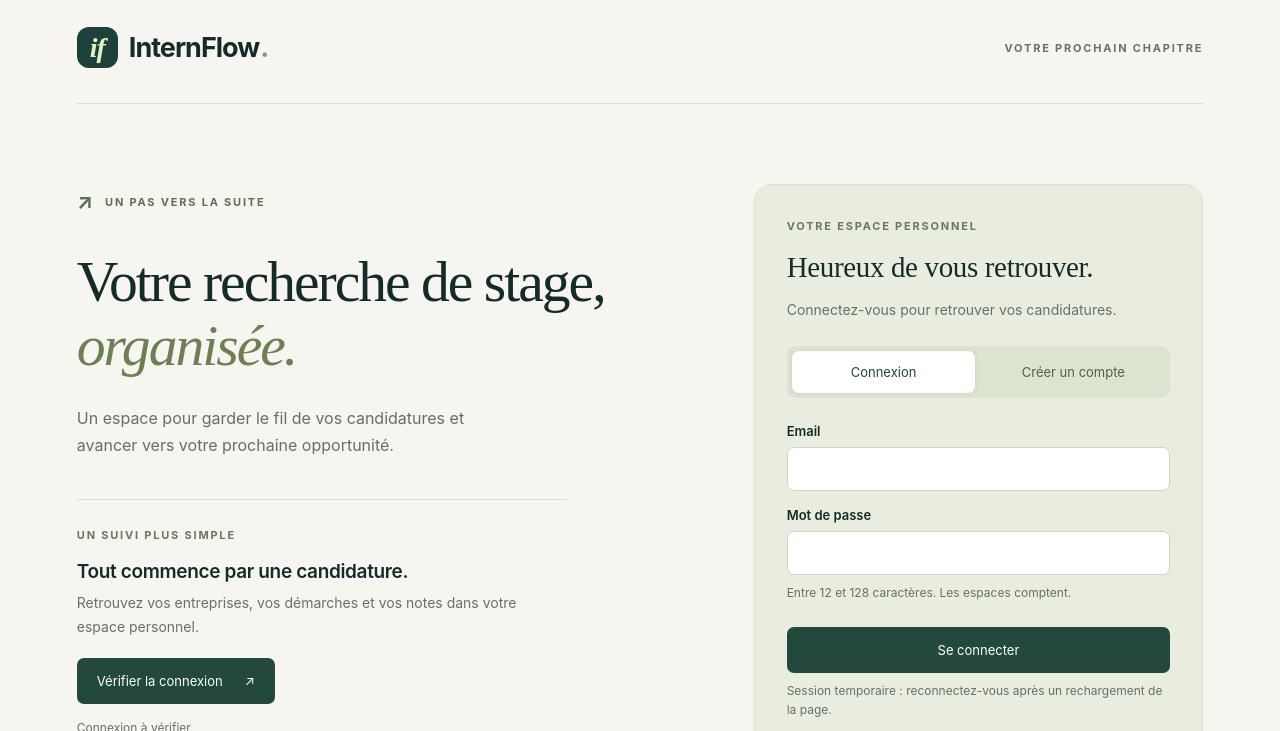
Scenario: preserves unchanged timestamps, clears notes and retains input after a save error
Type "candidate@example.com" into the field labelled "Email". click: (978, 470)
box: [787,448,1170,492]
Type "Correct password 123!" into the password field labelled "Mot de passe". click: (978, 554)
box: [787,532,1170,576]
Click the button "Se connecter". click: click(978, 650)
box: [787,627,1170,673]
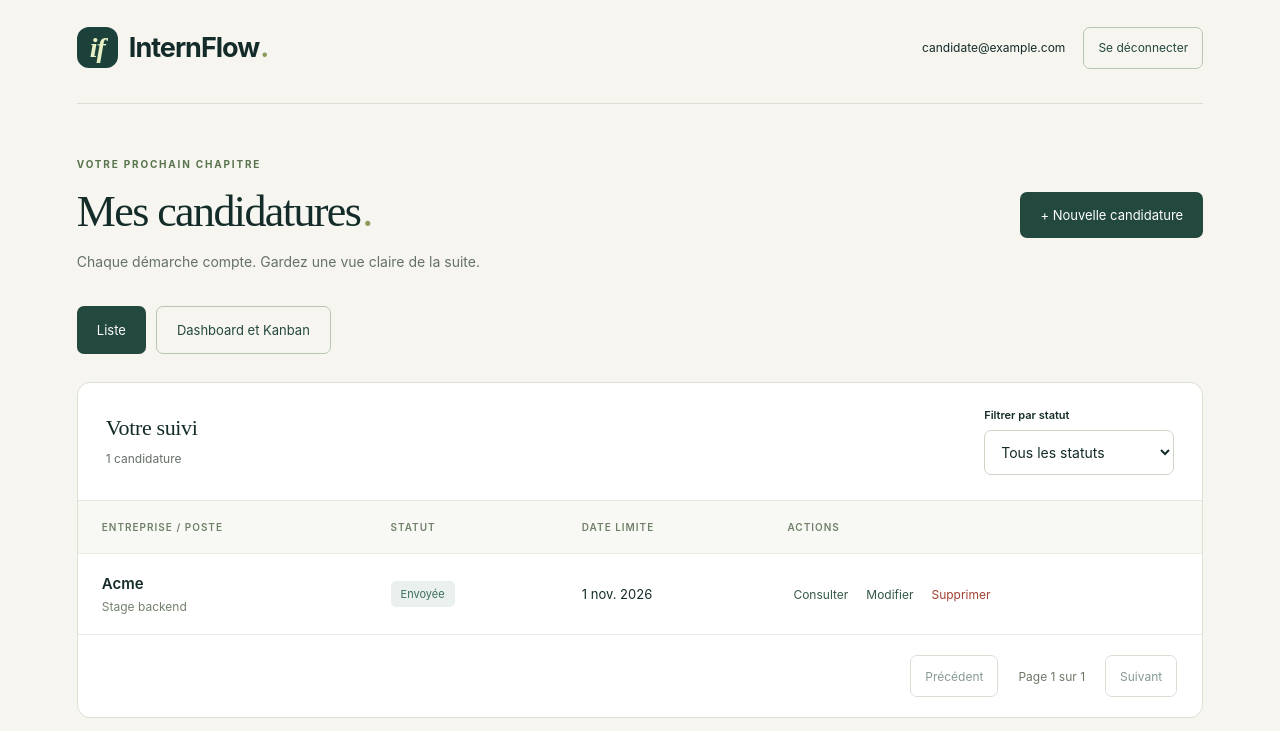
Expected: the heading "Mes candidatures." is shown, [77,187,372,236]
Click the button with aria-label "Modifier Acme". click: click(890, 594)
box: [860,574,920,614]
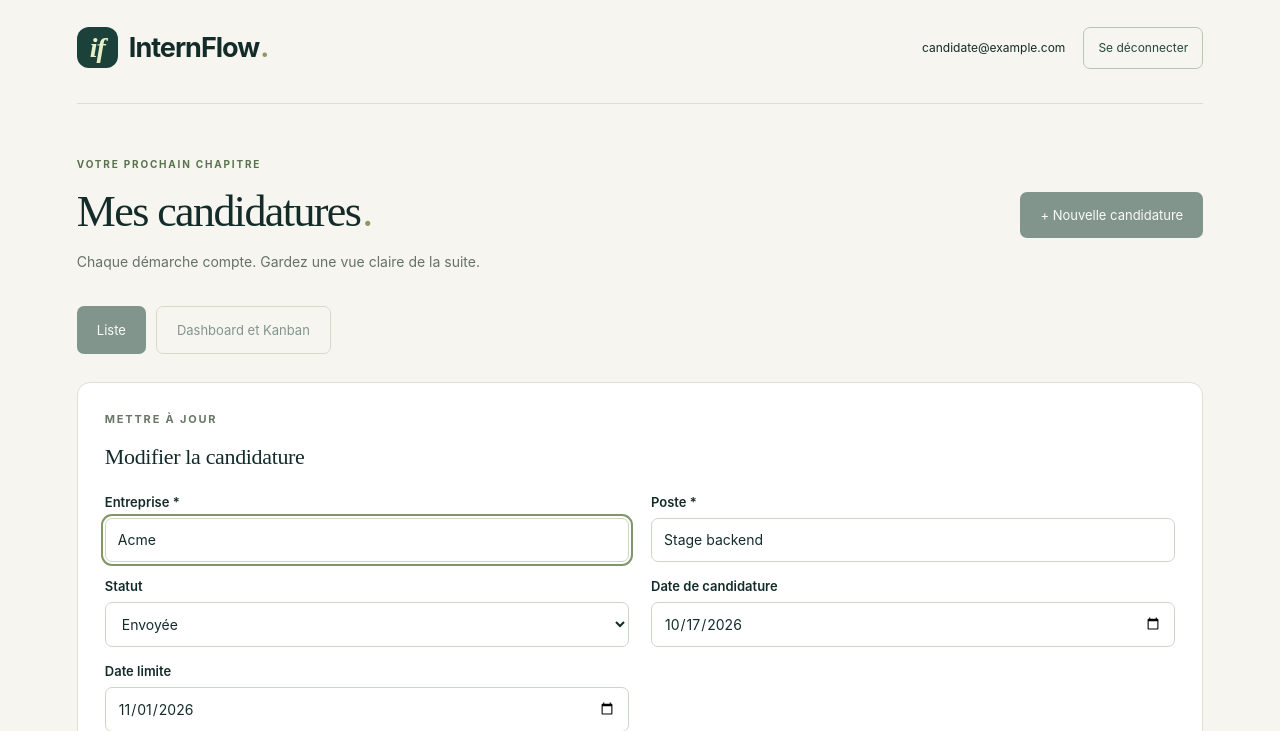
Replace the text in the field labelled "Poste *" with "Stage frontend". click: (913, 540)
box: [651,518,1175,562]
(page scrolled)
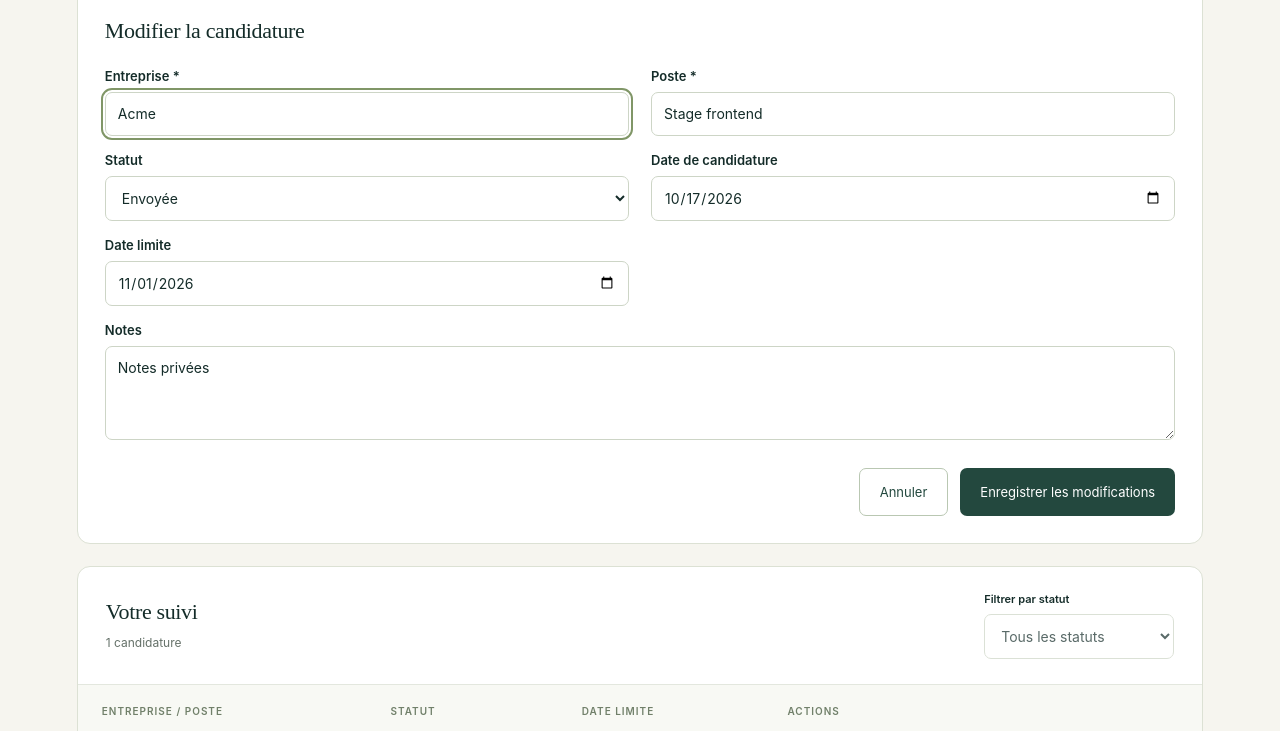
Clear the text box labelled "Notes". click: (640, 393)
box: [105,346,1175,440]
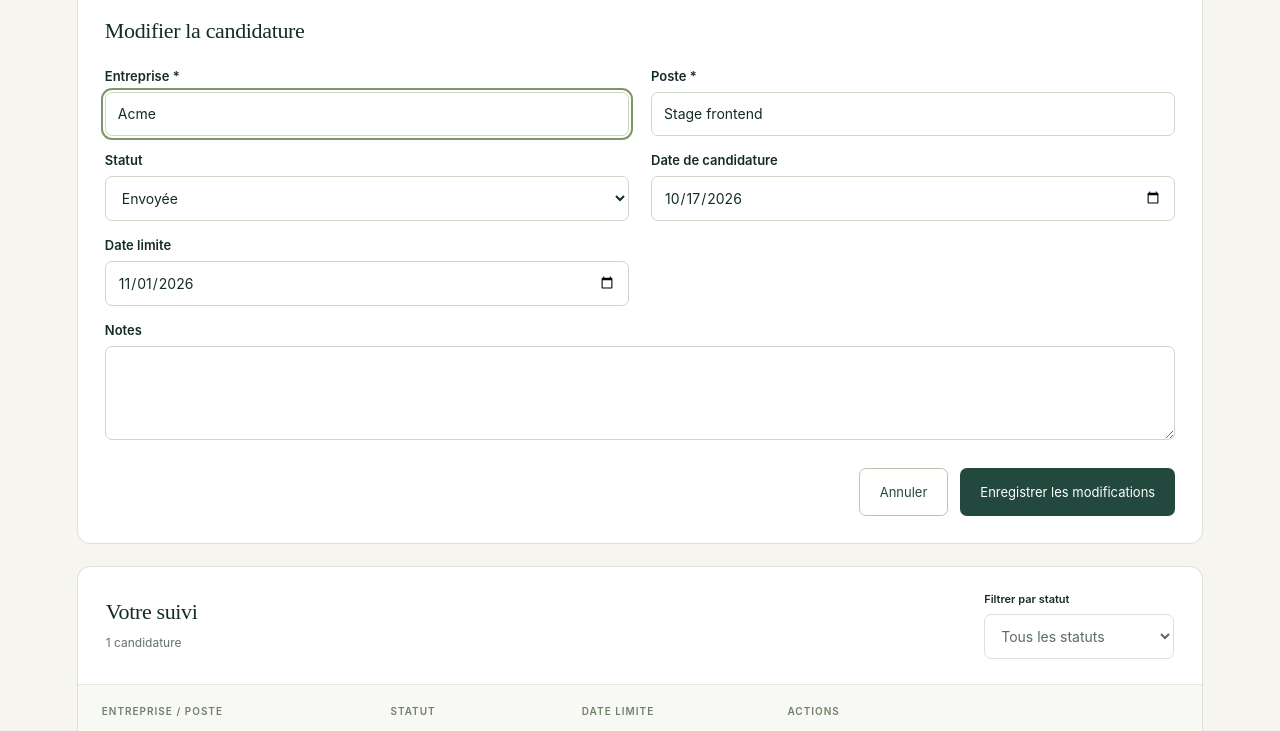
Click the button "Enregistrer les modifications". click: click(1068, 492)
box: [960,468,1175,516]
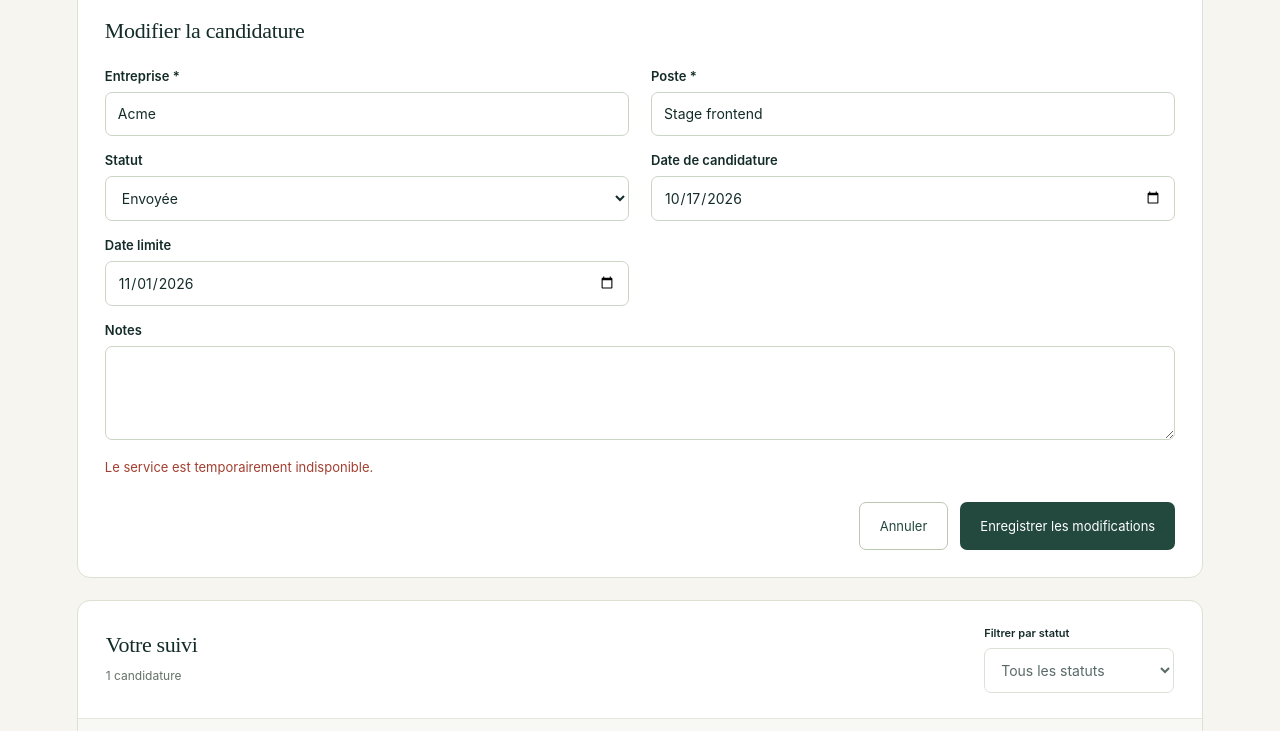
Expected: the text "Le service est temporairement indisponible." is shown, [105,459,373,475]
Click the button "Enregistrer les modifications". click: click(1068, 526)
box: [960,502,1175,550]
(page scrolled)
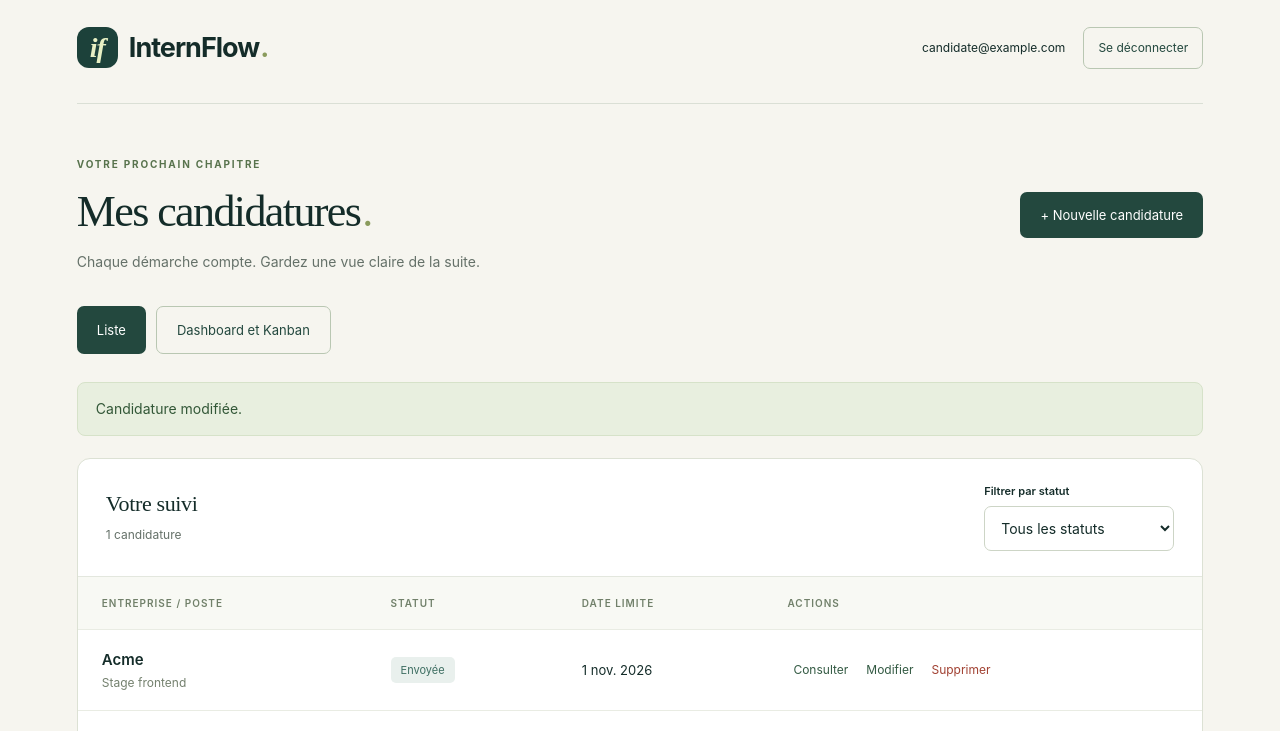
Expected: the text "Candidature modifiée." is shown, [77,382,1203,436]
Expected: the text "Stage frontend" is shown, [102,675,186,690]
